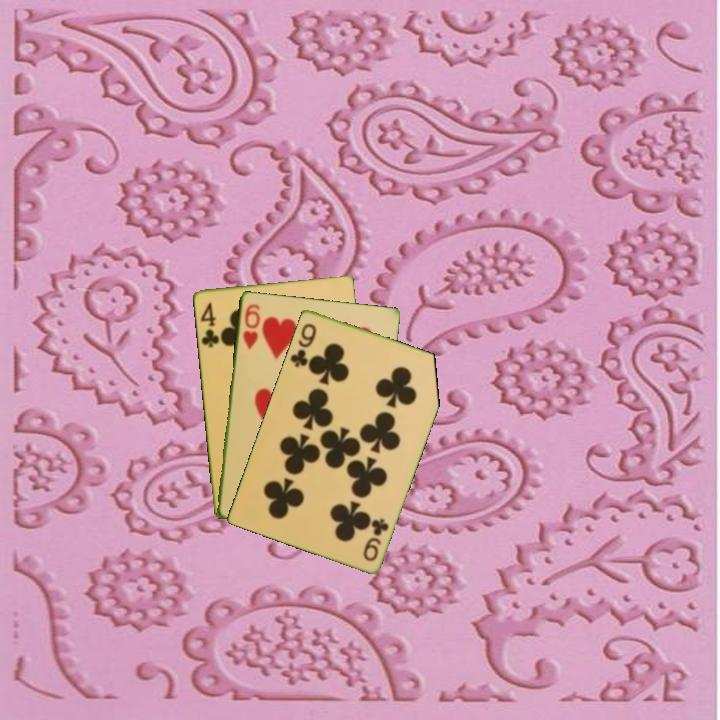4c: (197, 299, 222, 350)
6h: (239, 300, 263, 352)
9c: (286, 319, 319, 370), (359, 514, 391, 564)
